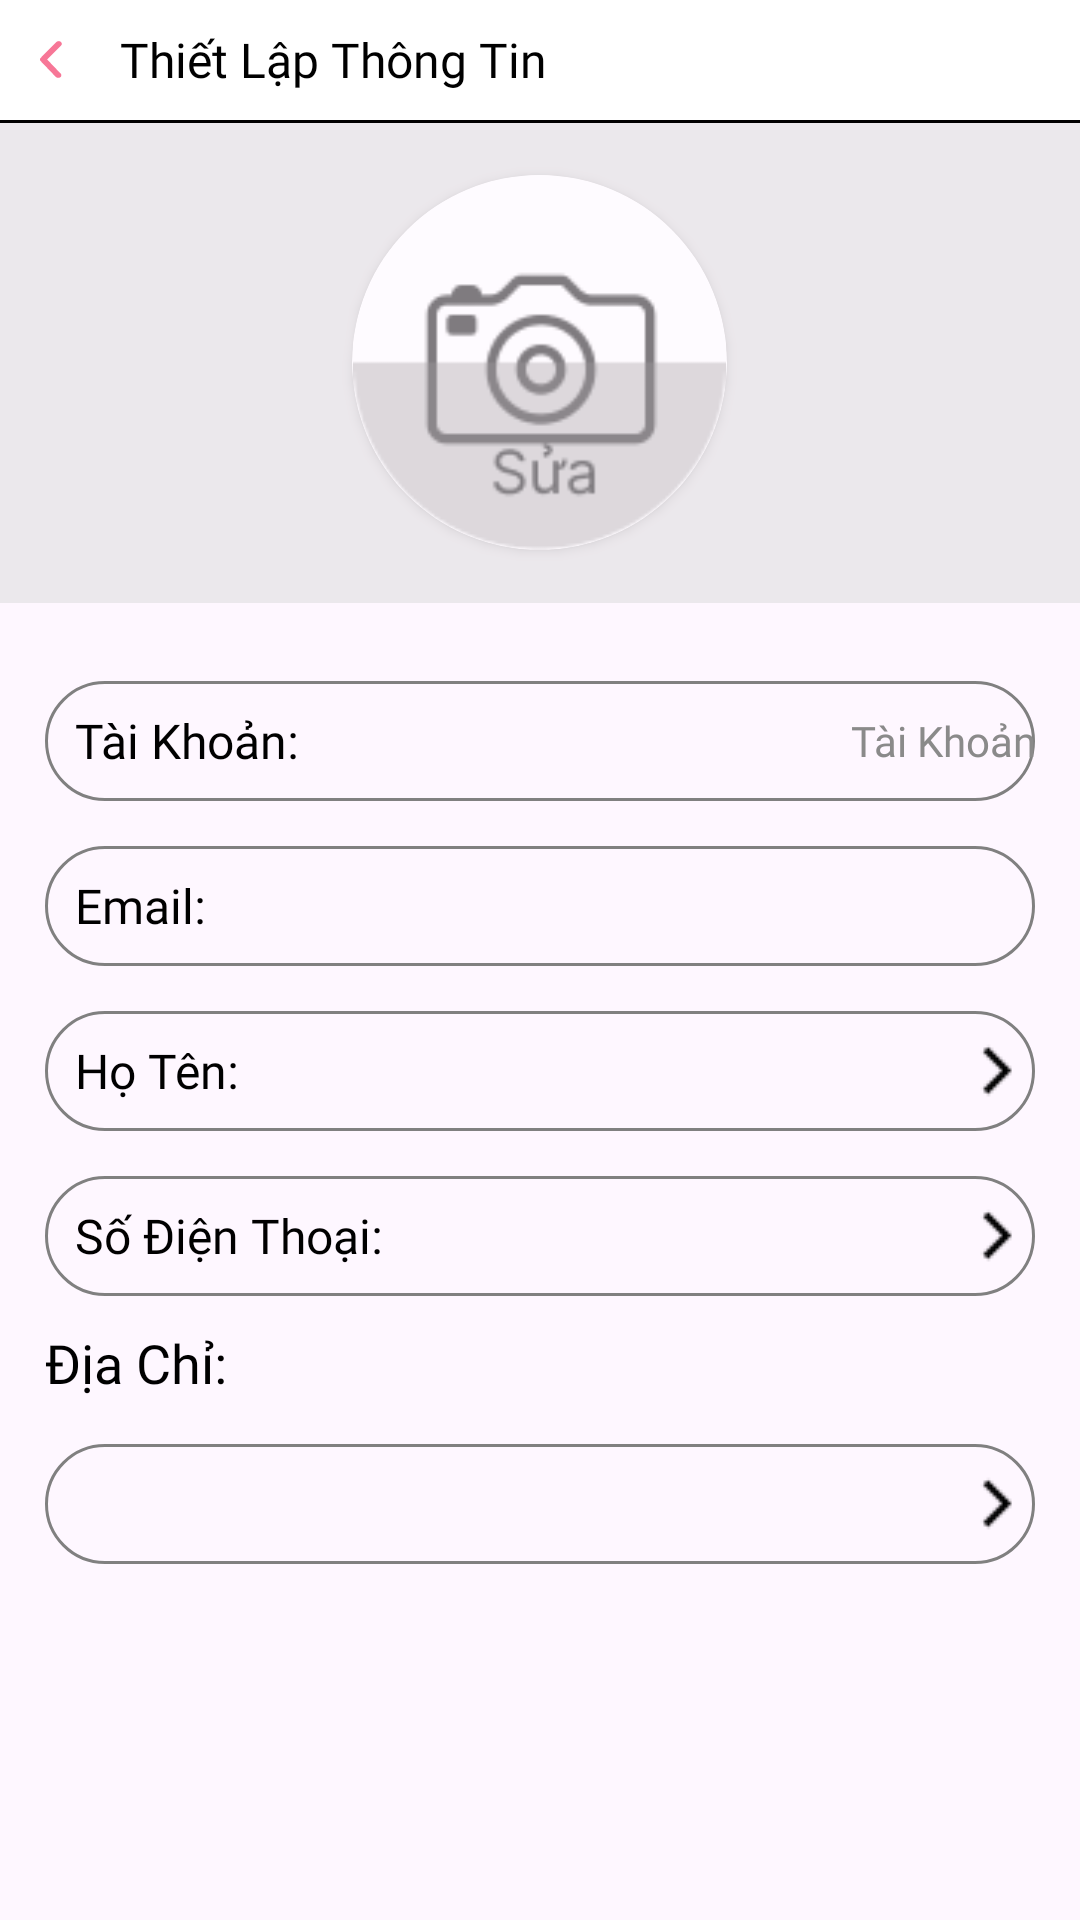

Where icons sit on this 1080px x 1920px app screen, as (x1, y1, x2, y2):
arrow back: (40, 41, 62, 78)
next: (983, 1047, 1012, 1095), (983, 1212, 1012, 1260), (983, 1480, 1012, 1528)
